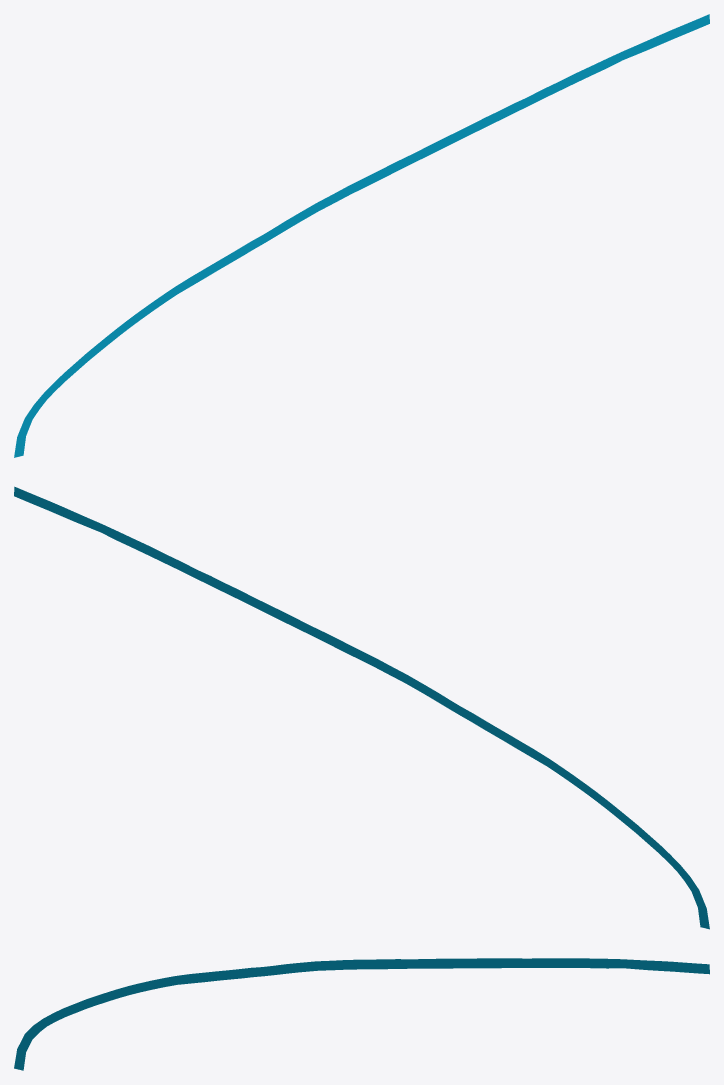
The model's file is curva.fbx.
The picture shows the model from 3 angles, top to bottom: view 1: azimuth 30°, elevation 25°; view 2: azimuth 150°, elevation 25°; view 3: azimuth 330°, elevation 25°; orthographic projection.
Visible parts, largest first — view 1: y_raiz_x_demo:polySurface37; view 2: y_raiz_x_demo:polySurface37; view 3: y_raiz_x_demo:polySurface37.
Boxes of the visible parts, x1,y1,x2,y2 form: y_raiz_x_demo:polySurface37: (14,14,709,457); y_raiz_x_demo:polySurface37: (14,486,709,929); y_raiz_x_demo:polySurface37: (14,958,709,1070).
Size of the model in its own units: 13.36 by 5.02 by 0.011.
